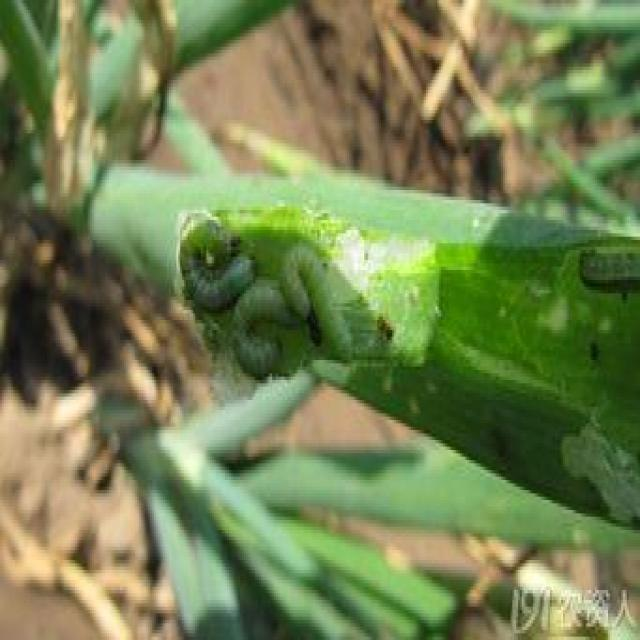BeetArmyWorm-Larva-: (224, 267, 319, 386), (278, 234, 362, 367), (176, 210, 259, 309)
